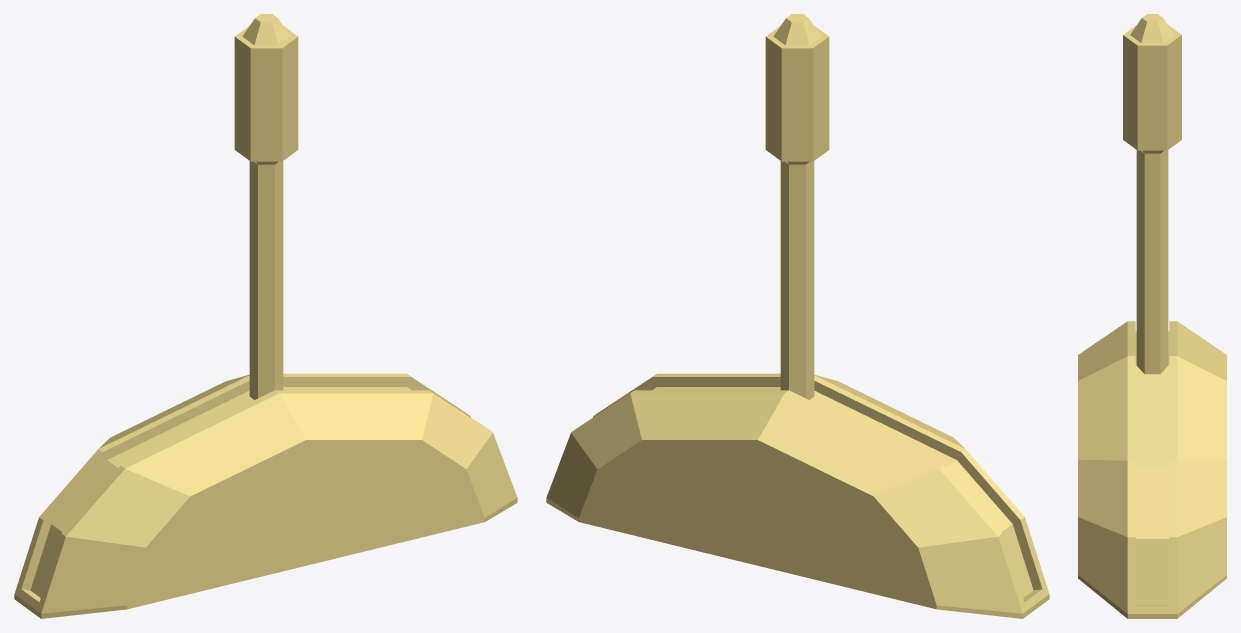
File: Lever.fbx
3 views of the same model, side by side, from view 1: azimuth 30°, elevation 25°; view 2: azimuth 150°, elevation 25°; view 3: azimuth 270°, elevation 25° (orthographic). The views are drawn at different scales.
Visible parts, largest first — view 1: Lever; view 2: Lever; view 3: Lever.
Part boxes in pixels (box(x1,y1,x2,y2)): Lever: box(14, 14, 517, 618); Lever: box(546, 14, 1049, 618); Lever: box(1078, 14, 1226, 618).
Size of the model in its own units: 167 by 178 by 48.62.
